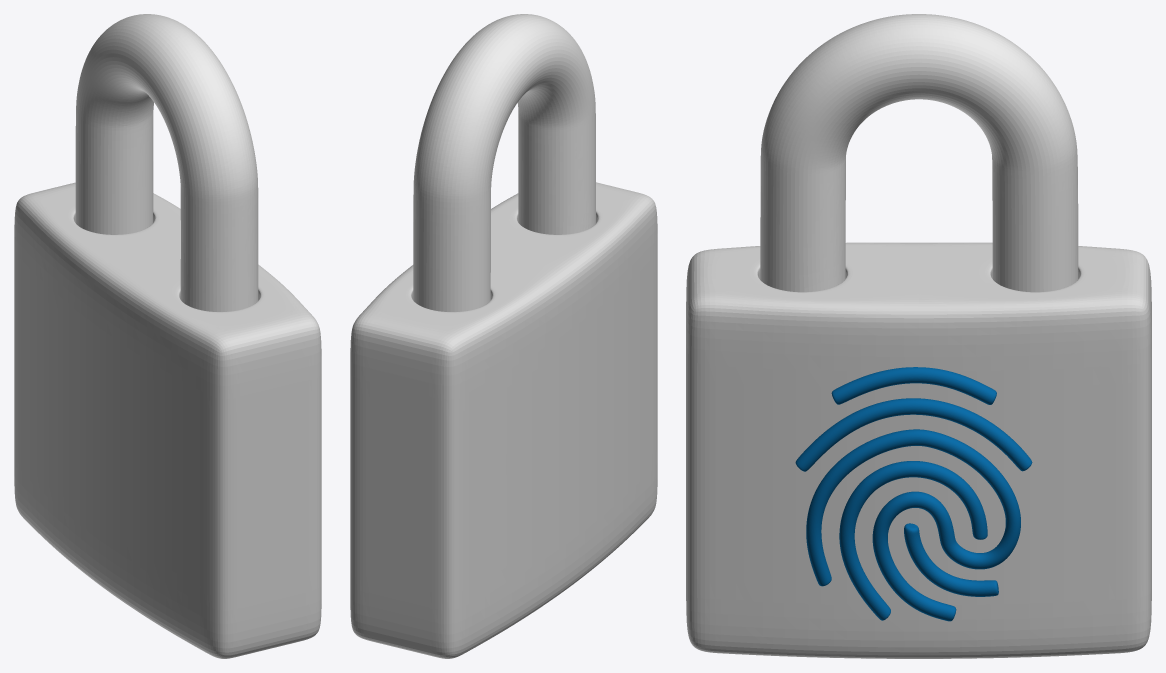
Rendered from Lock2.glb.
The picture shows the model from 3 angles, left to right: view 1: azimuth 30°, elevation 25°; view 2: azimuth 150°, elevation 25°; view 3: azimuth 270°, elevation 25°; orthographic projection. The views are drawn at different scales.
Parts seen in each view (by area): view 1: Cube, Cube.001; view 2: Cube, Cube.001; view 3: Cube, Cube.001, BezierCurve.002.
Part boxes in pixels (x1=…): Cube: x1=14, y1=182, x2=321, y2=658; Cube.001: x1=75, y1=14, x2=258, y2=311; Cube: x1=350, y1=182, x2=657, y2=658; Cube.001: x1=413, y1=14, x2=595, y2=311; Cube: x1=686, y1=242, x2=1151, y2=658; Cube.001: x1=760, y1=14, x2=1078, y2=292; BezierCurve.002: x1=795, y1=367, x2=1032, y2=621.
Size of the model in its own units: 0.584 by 2.05 by 1.42.
